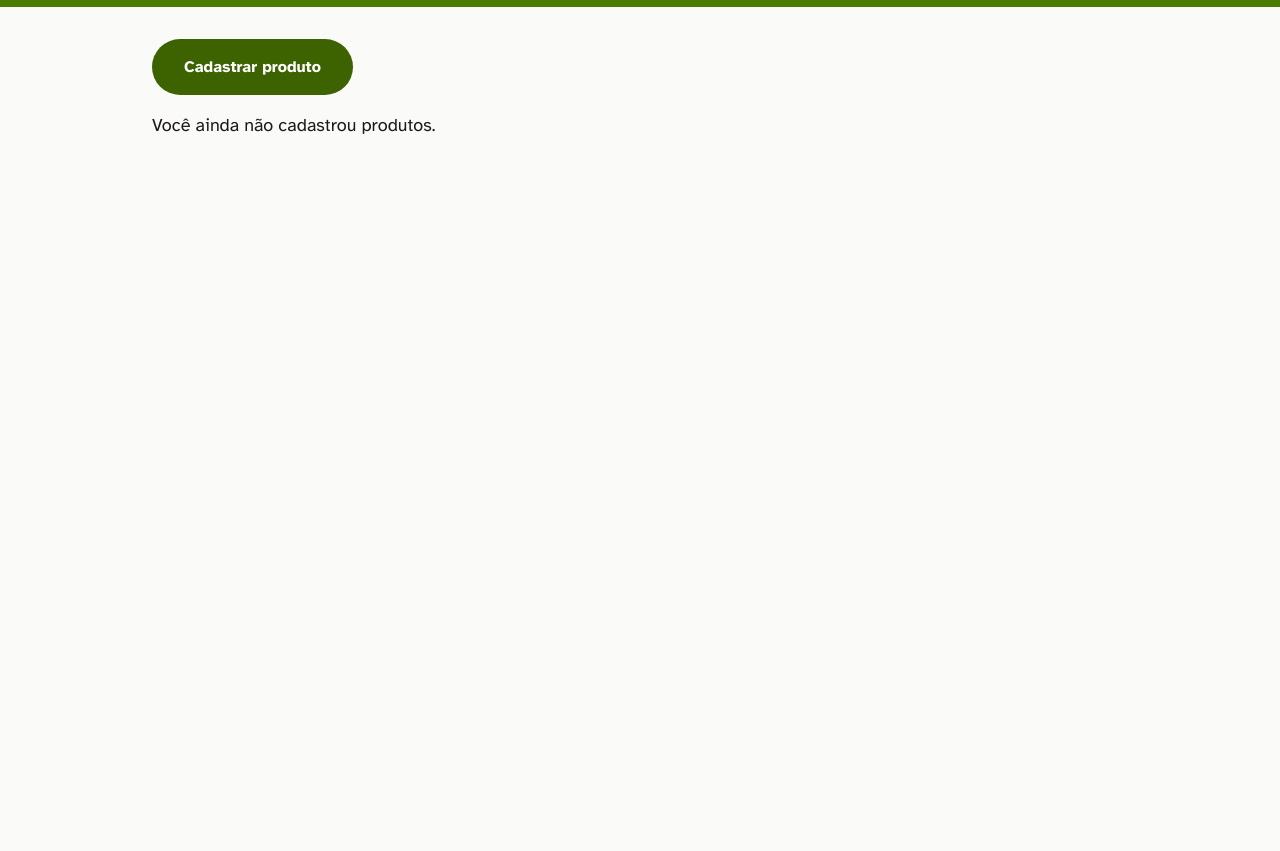
it: MyProducts, unit of sale › starts a new product sold by the kilo
The width and height of the screenshot is (1280, 851).
Click the button "Cadastrar produto" at (252, 67), box [152,39,353,95]
(page scrolled)
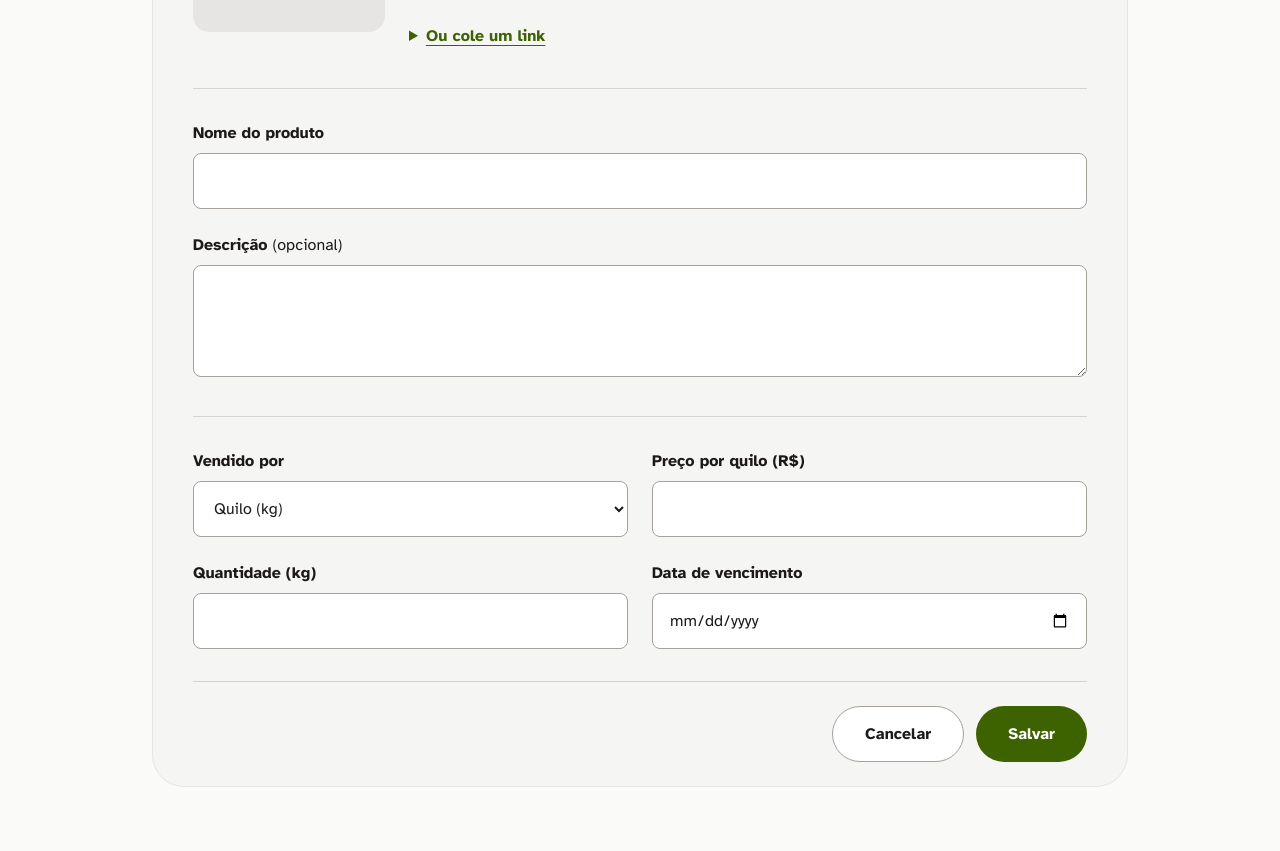
Expected: the dropdown labelled "Vendido por" shows "Quilo (kg)", [193,481,628,537]
Expected: the number field labelled "Preço por quilo (R$)" is shown, [652,481,1087,537]
Expected: the number field labelled "Quantidade (kg)" is shown, [193,593,628,649]
